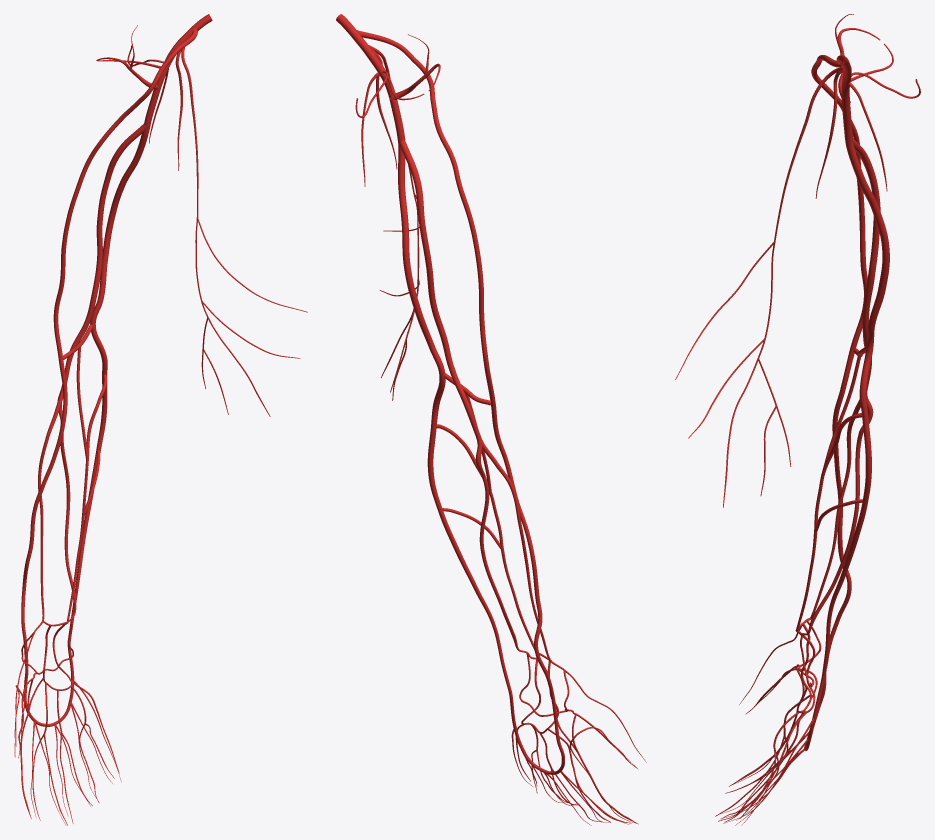
File: circulatorio-axillary-vein-r.glb
3 views of the same model, side by side, from view 1: azimuth 30°, elevation 25°; view 2: azimuth 150°, elevation 25°; view 3: azimuth 270°, elevation 25° (orthographic). The views are drawn at different scales.
Parts seen in each view (by area): view 1: Cephalic vein.r, Basilic vein.r, Palmar digital veins.r, Brachial veins.r, Lateral thoracic vein.r, Dorsal digital veins of hand.r, Median antebrachial vein.r, Radial veins.r, Ulnar veins.r, Axillary vein.r, Median cubital vein.r, Dorsal venous network of hand.r; view 2: Cephalic vein.r, Basilic vein.r, Brachial veins.r, Palmar digital veins.r, Axillary vein.r, Median antebrachial vein.r, Dorsal digital veins of hand.r, Ulnar veins.r, Lateral thoracic vein.r, Radial veins.r, Dorsal venous network of hand.r; view 3: Basilic vein.r, Cephalic vein.r, Lateral thoracic vein.r, Palmar digital veins.r, Brachial veins.r, Median antebrachial vein.r, Dorsal digital veins of hand.r, Ulnar veins.r, Radial veins.r, Axillary vein.r, Median cubital vein.r, Superficial venous palmar arch.r.
Boxes of the visible parts, x1,y1,x2,y2 form: Cephalic vein.r: (21, 28, 197, 666); Basilic vein.r: (68, 126, 150, 640); Palmar digital veins.r: (18, 672, 119, 825); Brachial veins.r: (65, 124, 148, 383); Lateral thoracic vein.r: (181, 47, 307, 416); Dorsal digital veins of hand.r: (14, 630, 121, 825); Median antebrachial vein.r: (43, 374, 107, 626); Radial veins.r: (35, 385, 63, 630); Ulnar veins.r: (57, 385, 76, 622); Axillary vein.r: (144, 14, 212, 125); Median cubital vein.r: (63, 324, 93, 459); Dorsal venous network of hand.r: (23, 641, 74, 726); Cephalic vein.r: (357, 30, 557, 720); Basilic vein.r: (398, 141, 511, 691); Brachial veins.r: (399, 140, 480, 437); Palmar digital veins.r: (515, 709, 638, 824); Axillary vein.r: (336, 14, 405, 141); Median antebrachial vein.r: (436, 424, 551, 660); Dorsal digital veins of hand.r: (511, 668, 646, 825); Ulnar veins.r: (475, 436, 536, 659); Lateral thoracic vein.r: (369, 45, 419, 400); Radial veins.r: (478, 436, 563, 669); Dorsal venous network of hand.r: (508, 691, 564, 774); Basilic vein.r: (822, 139, 889, 674); Cephalic vein.r: (811, 55, 867, 667); Lateral thoracic vein.r: (675, 67, 842, 507); Palmar digital veins.r: (715, 664, 809, 822); Brachial veins.r: (853, 138, 880, 391); Median antebrachial vein.r: (795, 413, 862, 634); Dorsal digital veins of hand.r: (716, 620, 817, 825); Ulnar veins.r: (800, 392, 873, 636); Radial veins.r: (806, 399, 860, 619); Axillary vein.r: (836, 55, 853, 141); Median cubital vein.r: (822, 346, 866, 471); Superficial venous palmar arch.r: (797, 623, 815, 713).
Size of the model in its own units: 0.2666 by 0.6976 by 0.1769.
